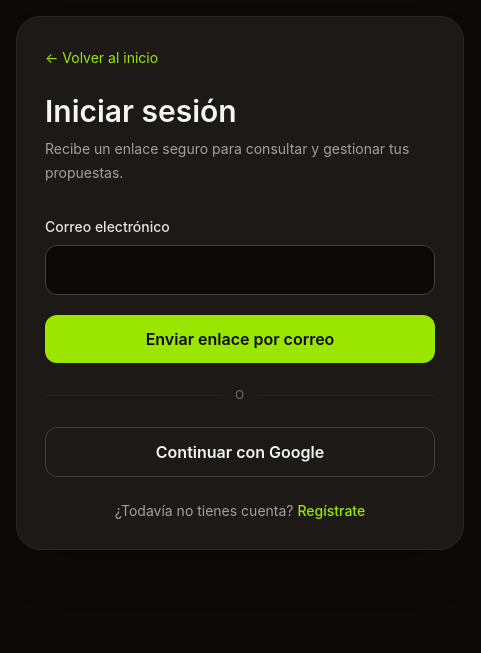
Test: AuthPage › requests a magic link without creating an unknown login user
The image size is (481, 653).
Type "madrid@example.test" into the field labelled "Correo electrónico" at (240, 270), box [45, 245, 435, 295]
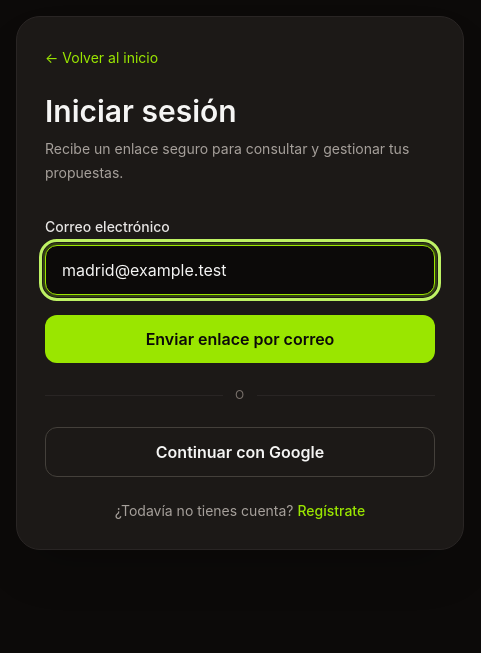
Click the button "Enviar enlace por correo" at (240, 339), box [45, 315, 435, 363]
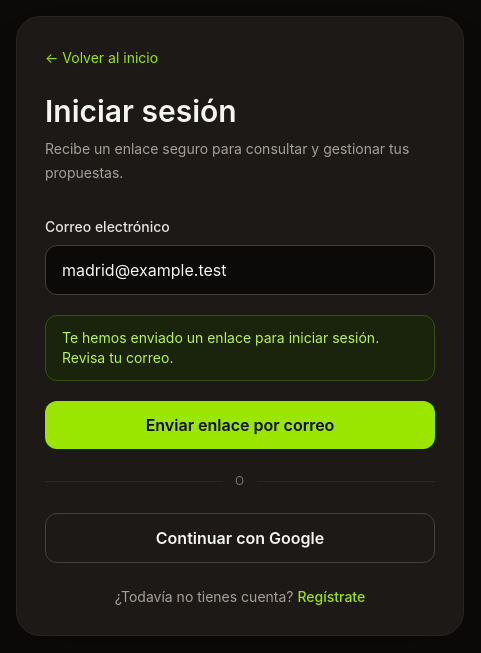
Expected: the text "Te hemos enviado un enlace para iniciar sesión. Revisa tu correo." is shown, [45, 315, 435, 381]
